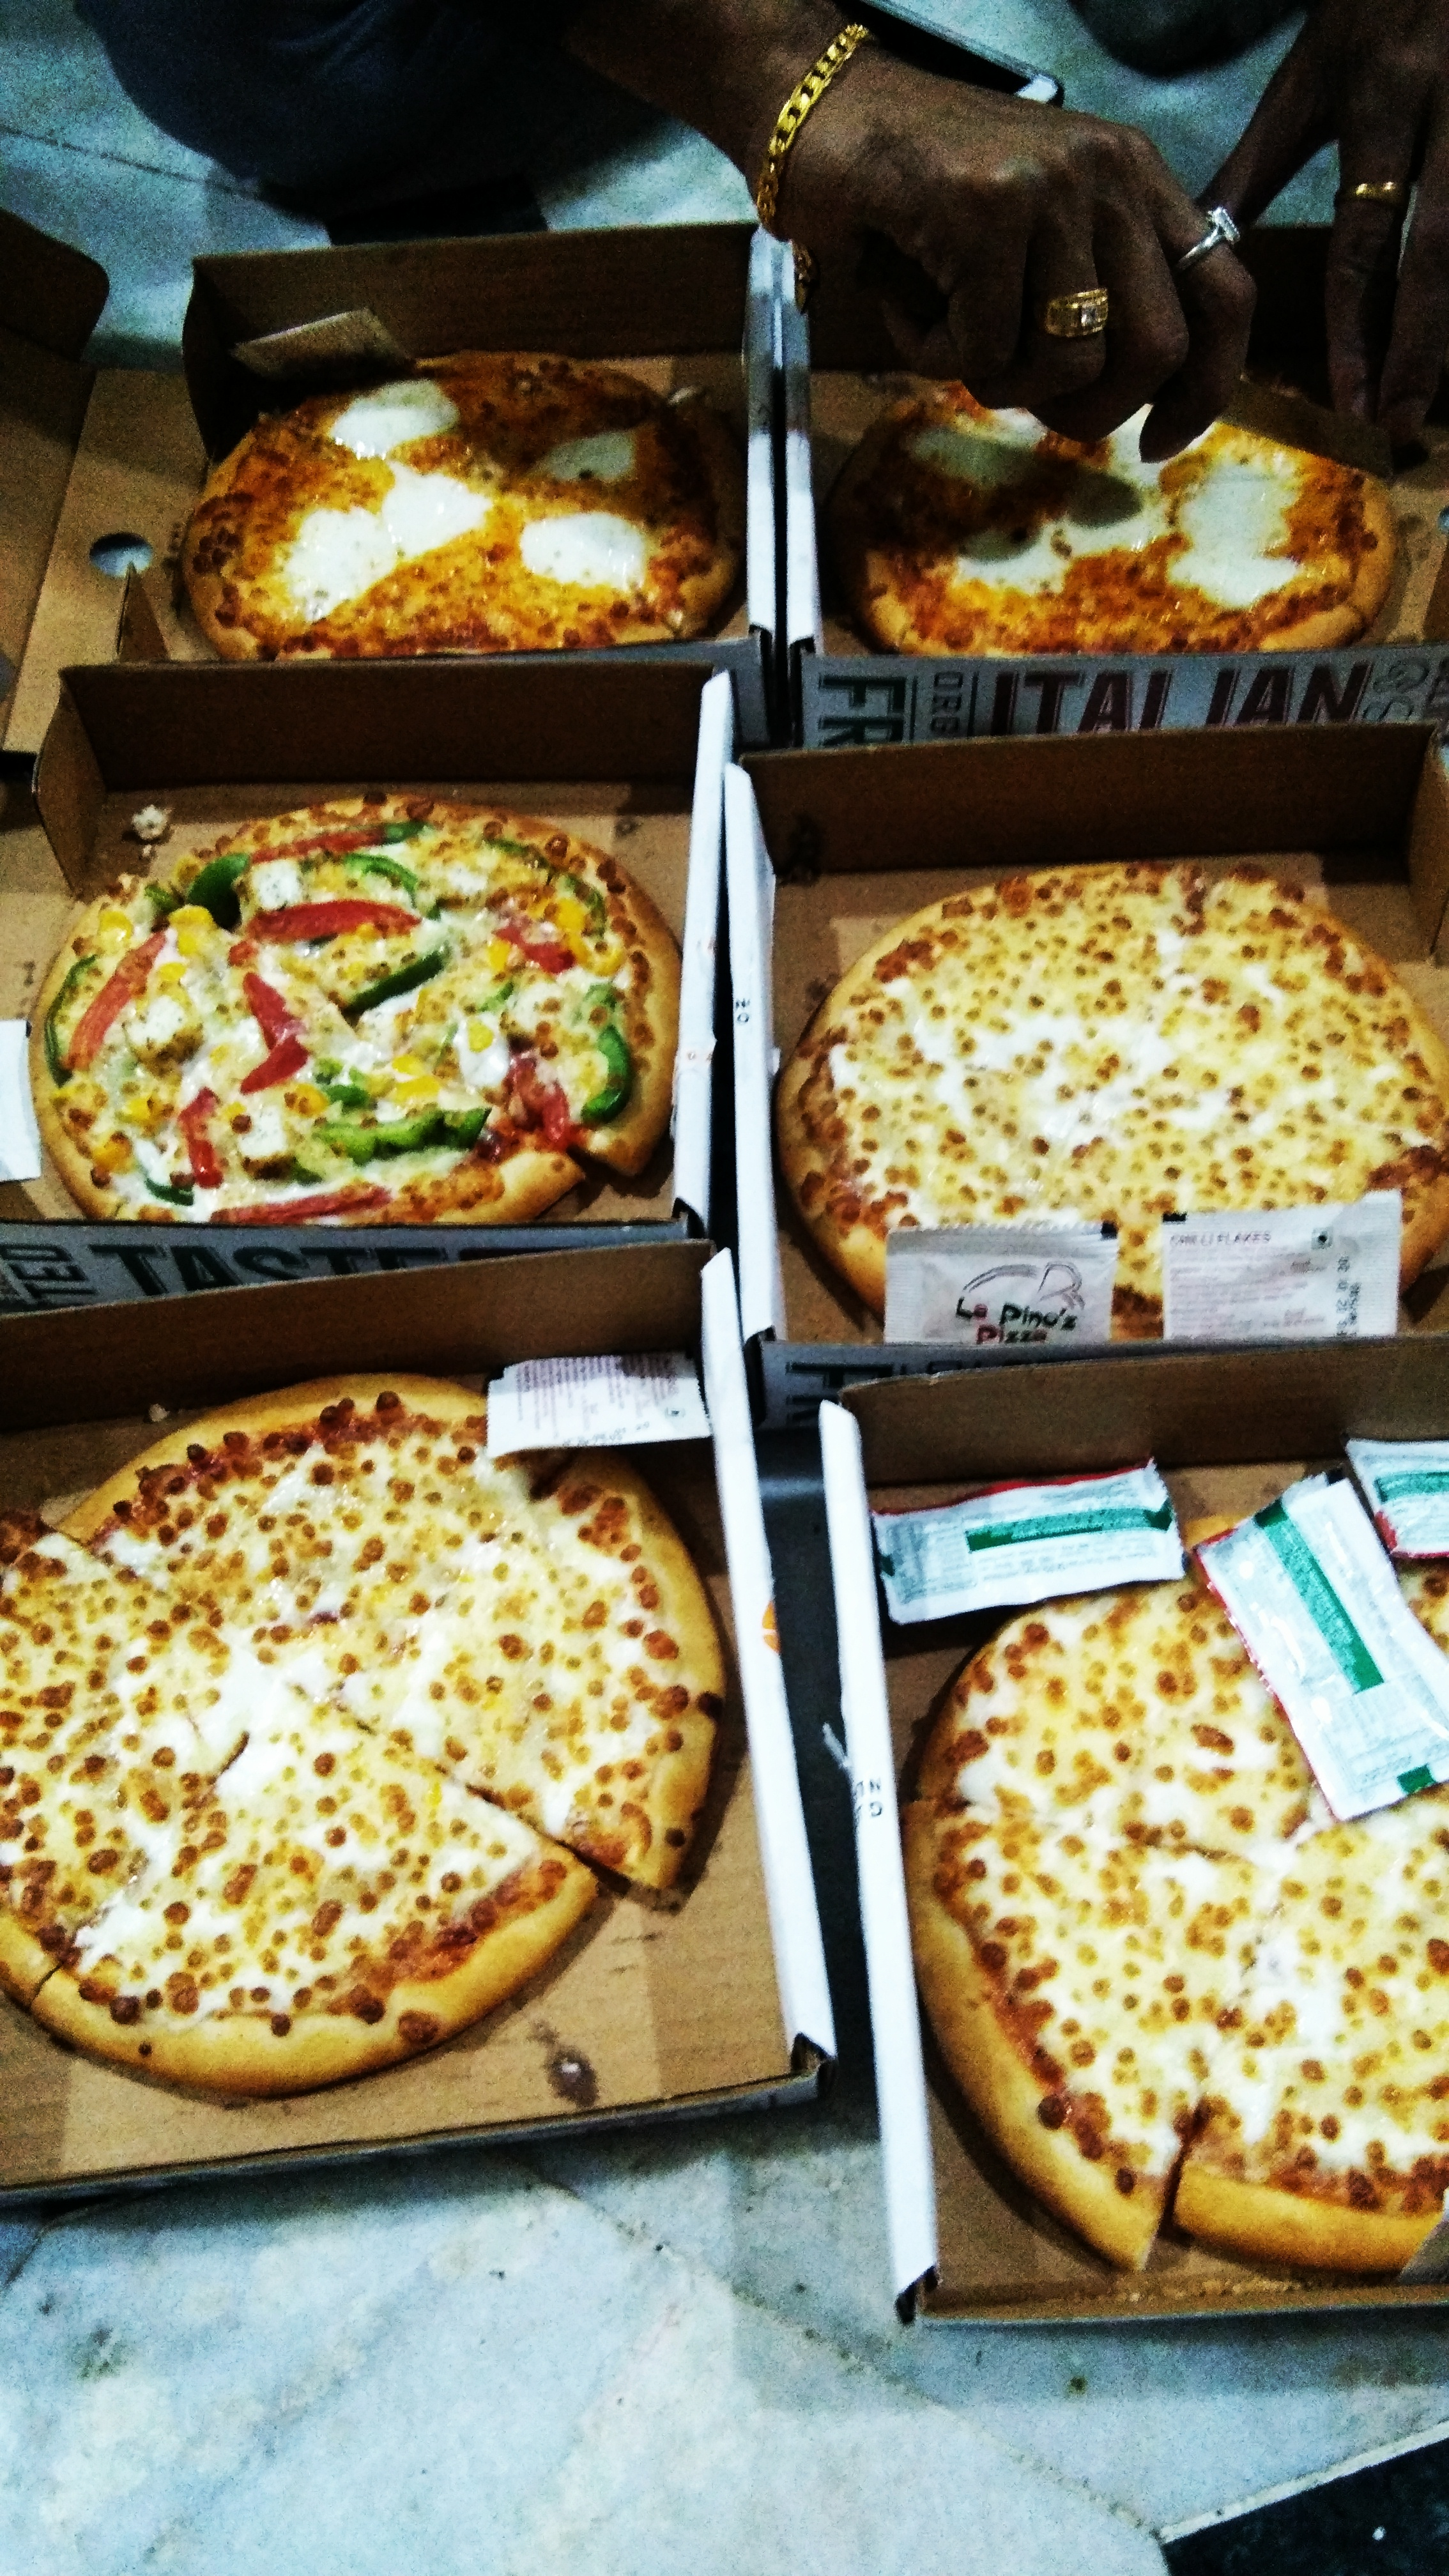food: (0, 1340, 736, 2108), (867, 1418, 1448, 2292), (767, 834, 1448, 1349), (16, 776, 680, 1232), (166, 289, 745, 667), (820, 314, 1409, 659)
